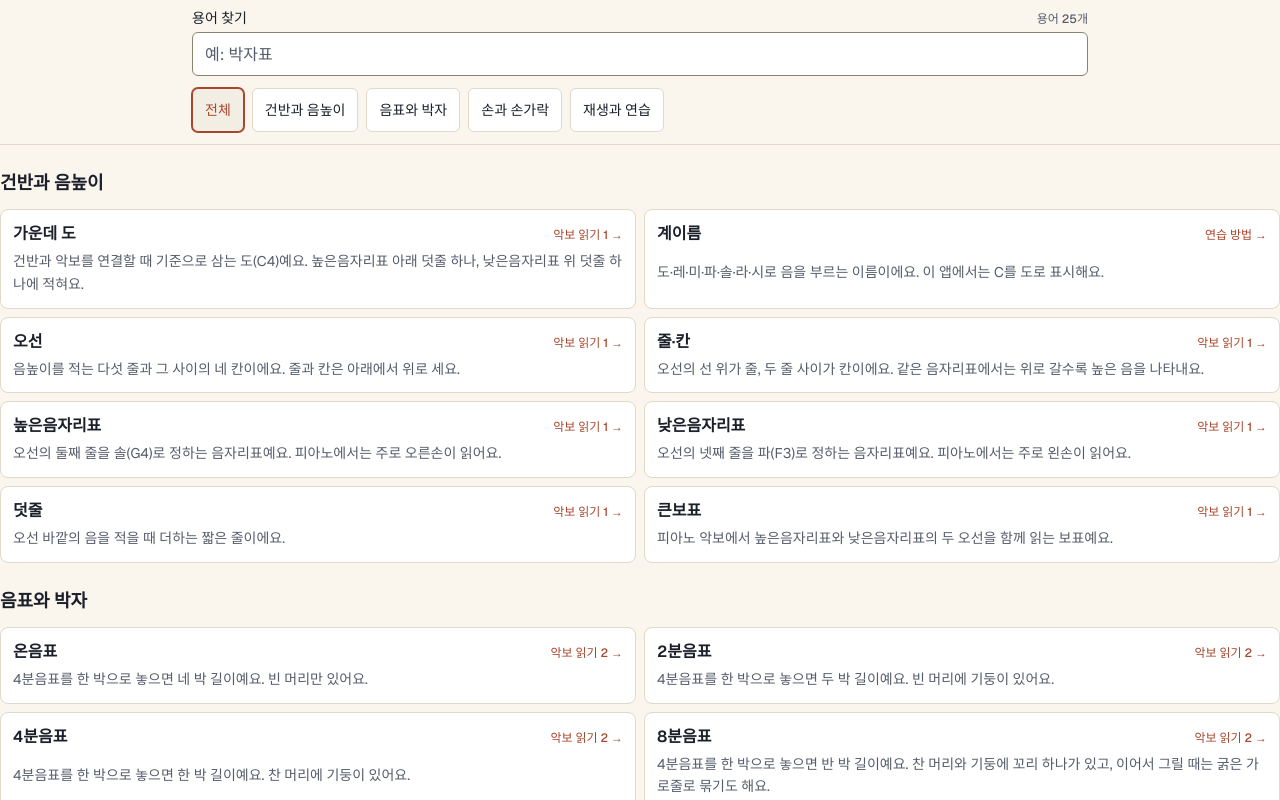
Test case: GlossaryExplorer › filters by category chip and search query together
Click the button "재생과 연습". click: (617, 110)
box: [570,88,664,132]
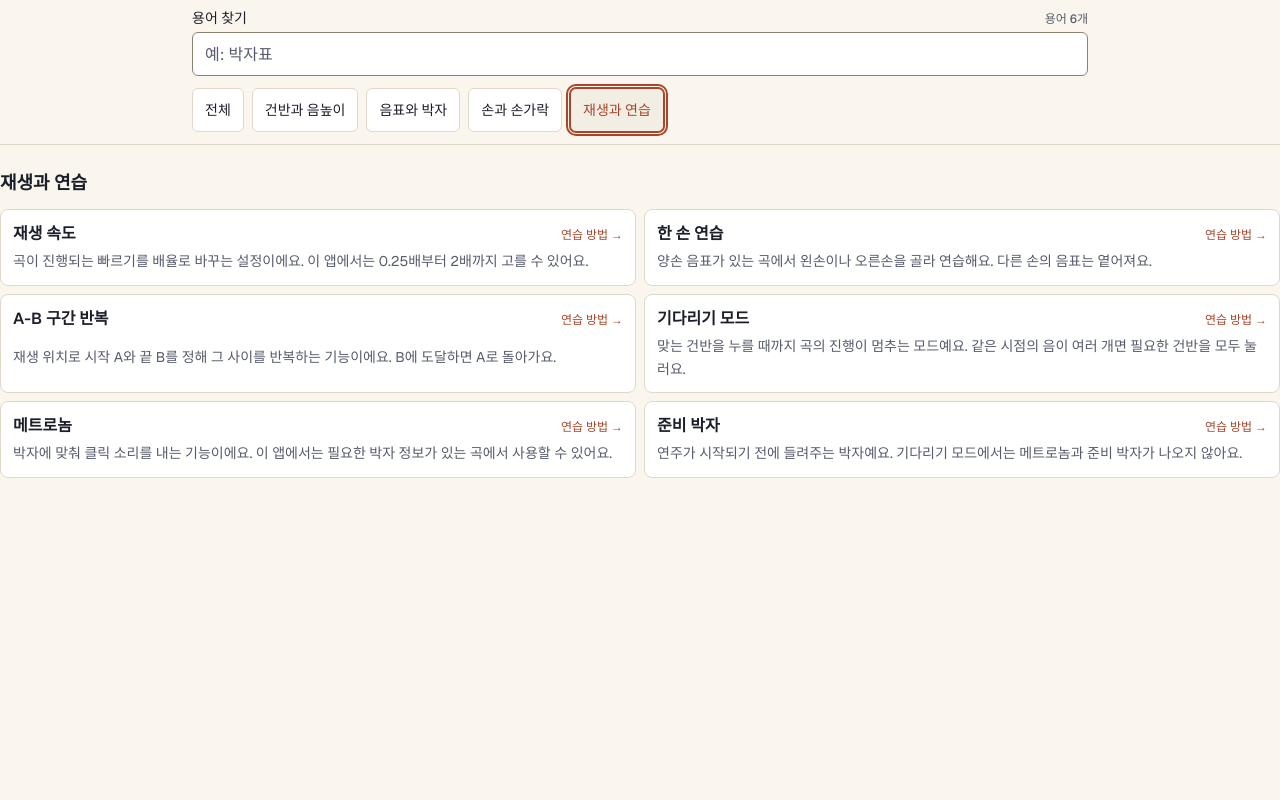
Type "박자" into the search field labelled "용어 찾기". click: (640, 54)
box: [192,32,1088,76]
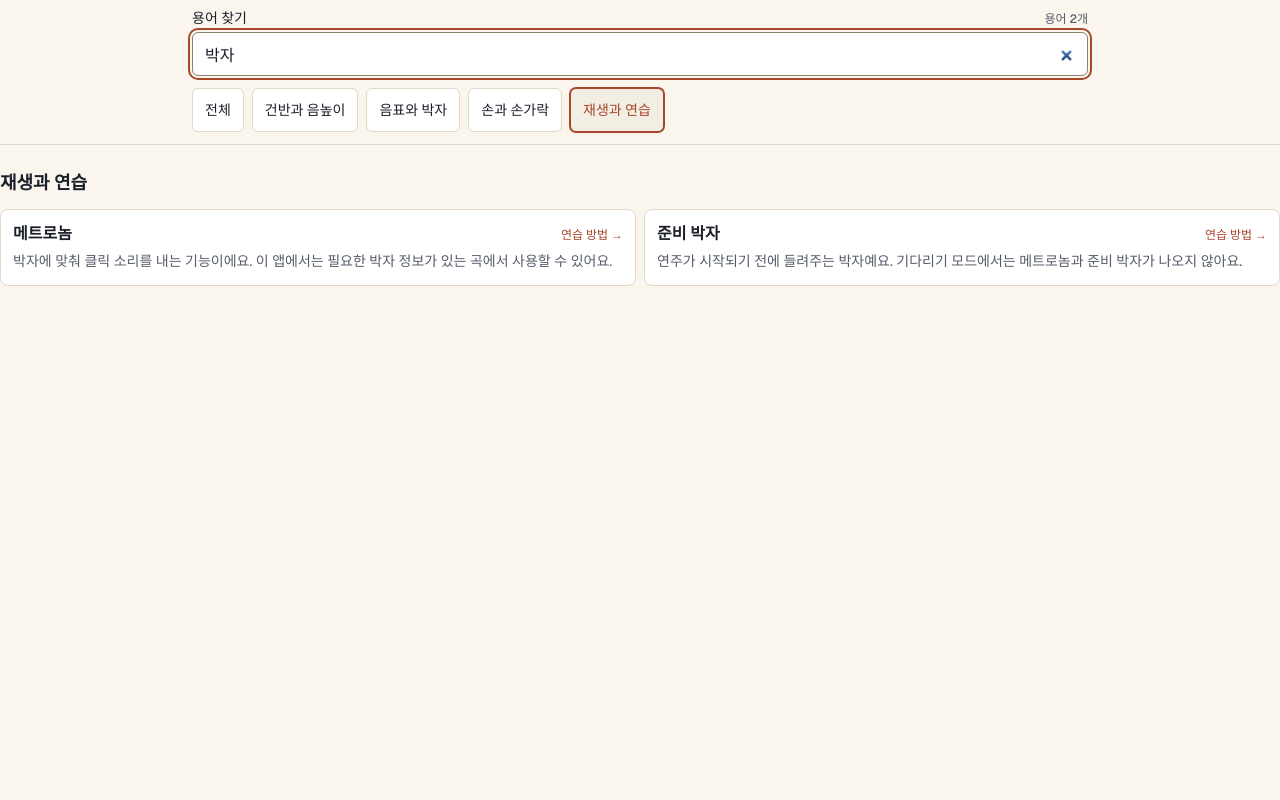
Expected: the element with id "term-metronome" is shown, [0,209,636,286]
Now the message reads "용어 2개", box [1044,11,1088,27]
